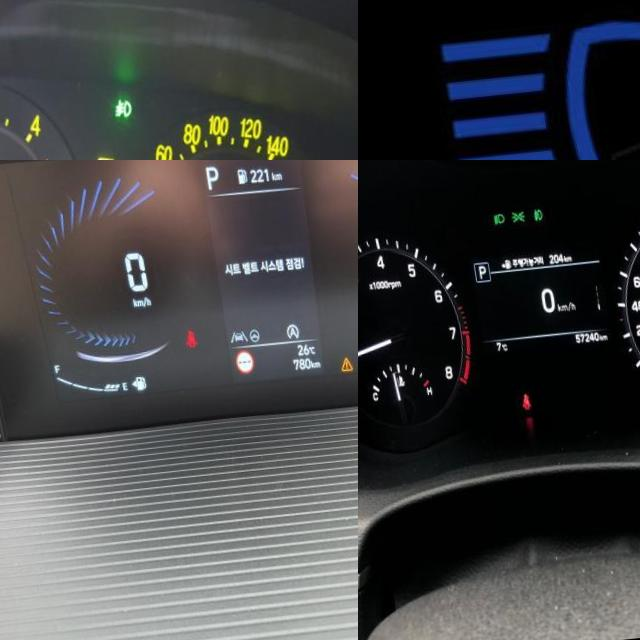Central Warning lamp: (328, 364, 342, 380)
FrontFogLight: (101, 103, 125, 128), (526, 214, 536, 229)
LaneCenteringOff: (219, 335, 238, 351)
Low beam: (486, 219, 498, 232)
SideLamp: (503, 217, 518, 230)
